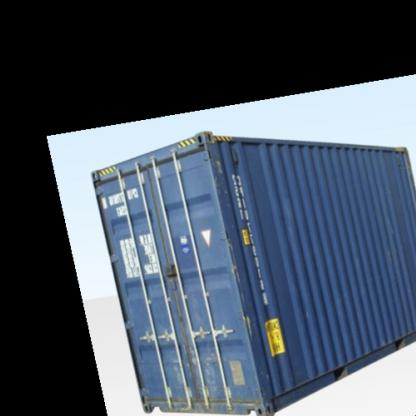Damage: (223, 224, 256, 341), (184, 344, 220, 402)
